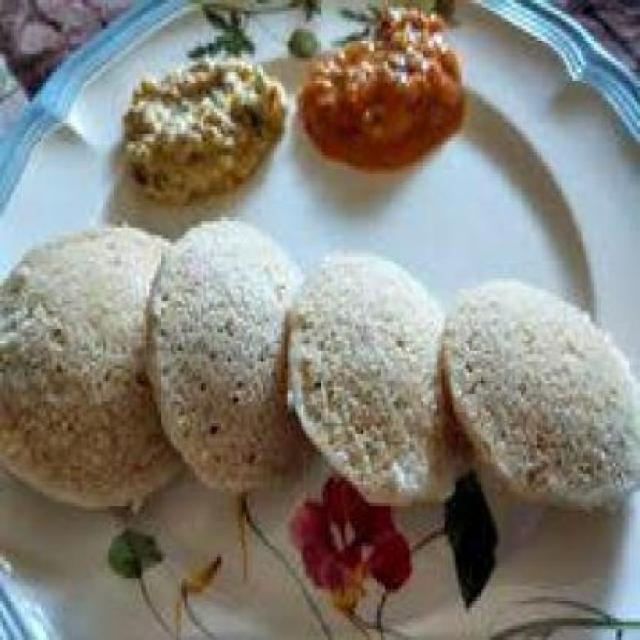idli: (0, 226, 185, 509), (284, 252, 473, 503), (441, 281, 640, 512), (146, 217, 308, 492)
